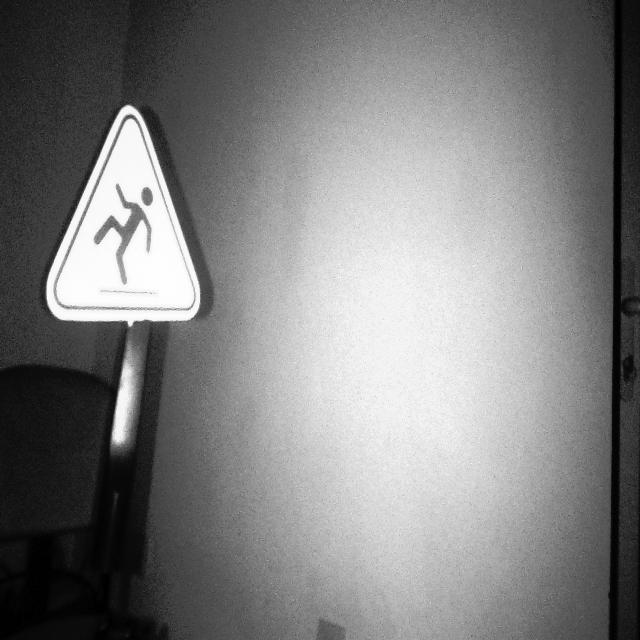Sign: (44, 102, 203, 326)
